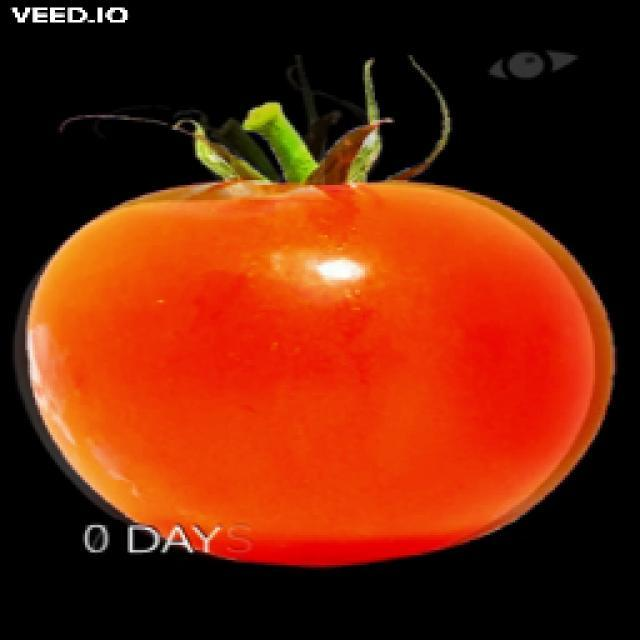tomato: (16, 178, 617, 572)
